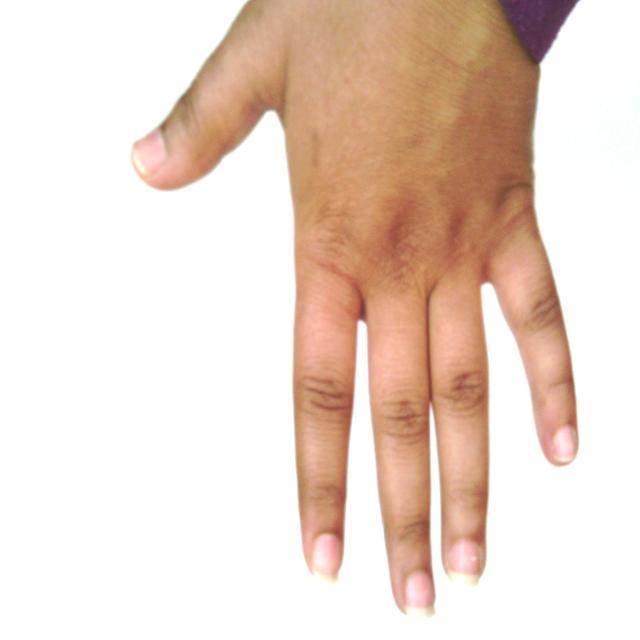Fingernail: (133, 131, 167, 176), (447, 542, 481, 586), (312, 535, 340, 582), (406, 572, 434, 618), (552, 428, 576, 462)
